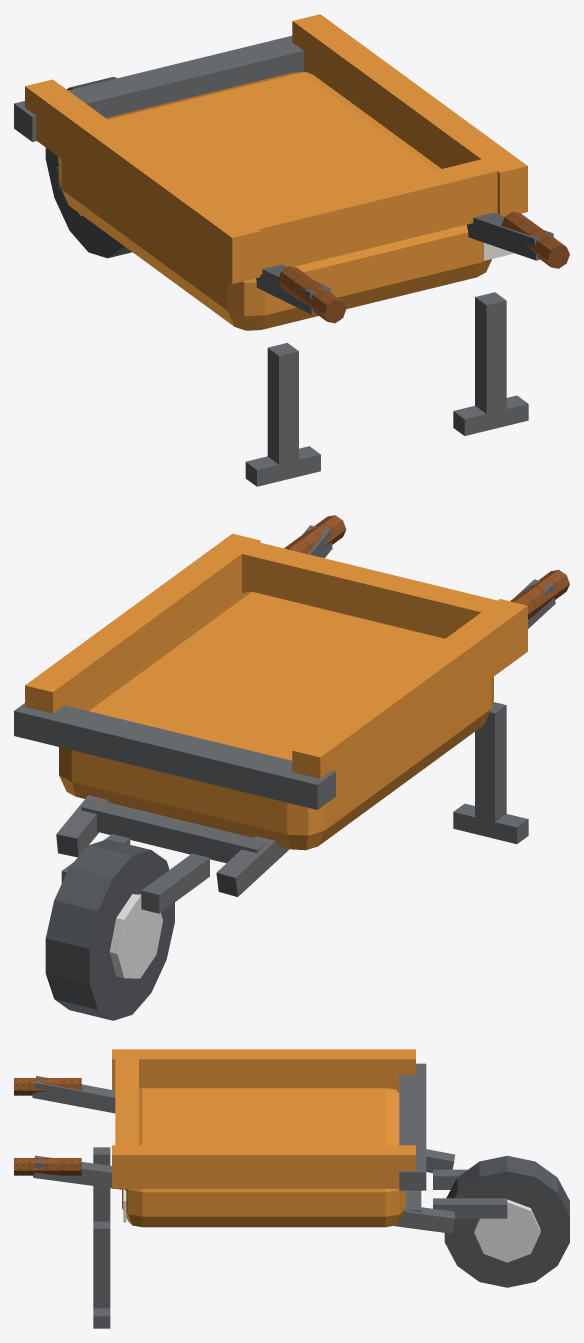
The model's file is tool-hire-depot-and-plant-yard-tool-hire-depot-and-pla-9fabd50f__35321.glb.
The picture shows the model from 3 angles, top to bottom: view 1: azimuth 30°, elevation 25°; view 2: azimuth 150°, elevation 25°; view 3: azimuth 270°, elevation 25°; orthographic projection. The views are drawn at different scales.
Visible parts, largest first — view 1: tool-hire-depot-and-plant-yard-builders-wheelbarrow, wheel-roll; view 2: tool-hire-depot-and-plant-yard-builders-wheelbarrow, wheel-roll (×2); view 3: tool-hire-depot-and-plant-yard-builders-wheelbarrow, wheel-roll (×2).
Boxes of the visible parts, x1,y1,x2,y2 form: tool-hire-depot-and-plant-yard-builders-wheelbarrow: [14, 14, 569, 486]; wheel-roll: [45, 77, 131, 258]; tool-hire-depot-and-plant-yard-builders-wheelbarrow: [14, 515, 569, 913]; wheel-roll (×2): [45, 839, 174, 1020]; tool-hire-depot-and-plant-yard-builders-wheelbarrow: [14, 1049, 507, 1328]; wheel-roll (×2): [444, 1155, 569, 1287].
Size of the model in its own units: 0.7601 by 0.58 by 1.65.
Materials: 6 (1 with a texture image).
